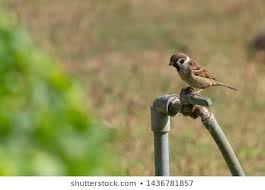home_sparrow: (161, 47, 247, 105)
